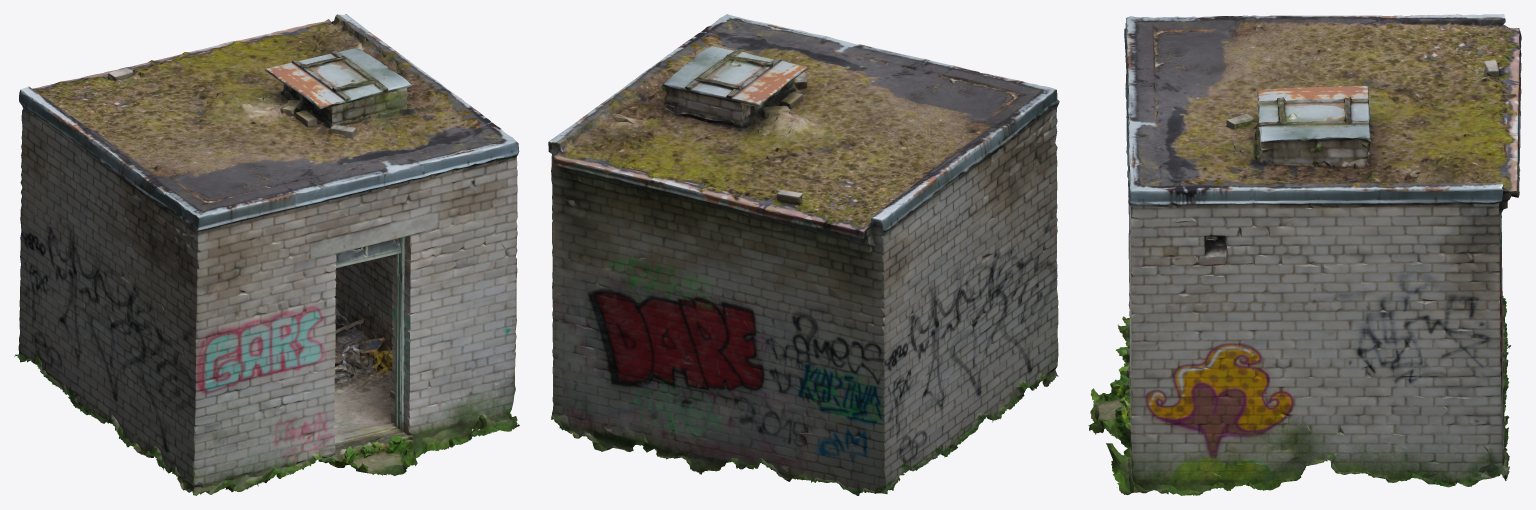
Rendered from brick_building_free.glb.
3 views of the same model, side by side, from view 1: azimuth 30°, elevation 25°; view 2: azimuth 150°, elevation 25°; view 3: azimuth 270°, elevation 25° (orthographic). The views are drawn at different scales.
Parts seen in each view (by area): view 1: Building; view 2: Building; view 3: Building.
Boxes of the visible parts, x1,y1,x2,y2 form: Building: (14,14,519,495); Building: (548,14,1059,495); Building: (1088,14,1521,495).
Size of the model in its own units: 326 by 320 by 339.
Materials: 1 (1 with a texture image).
